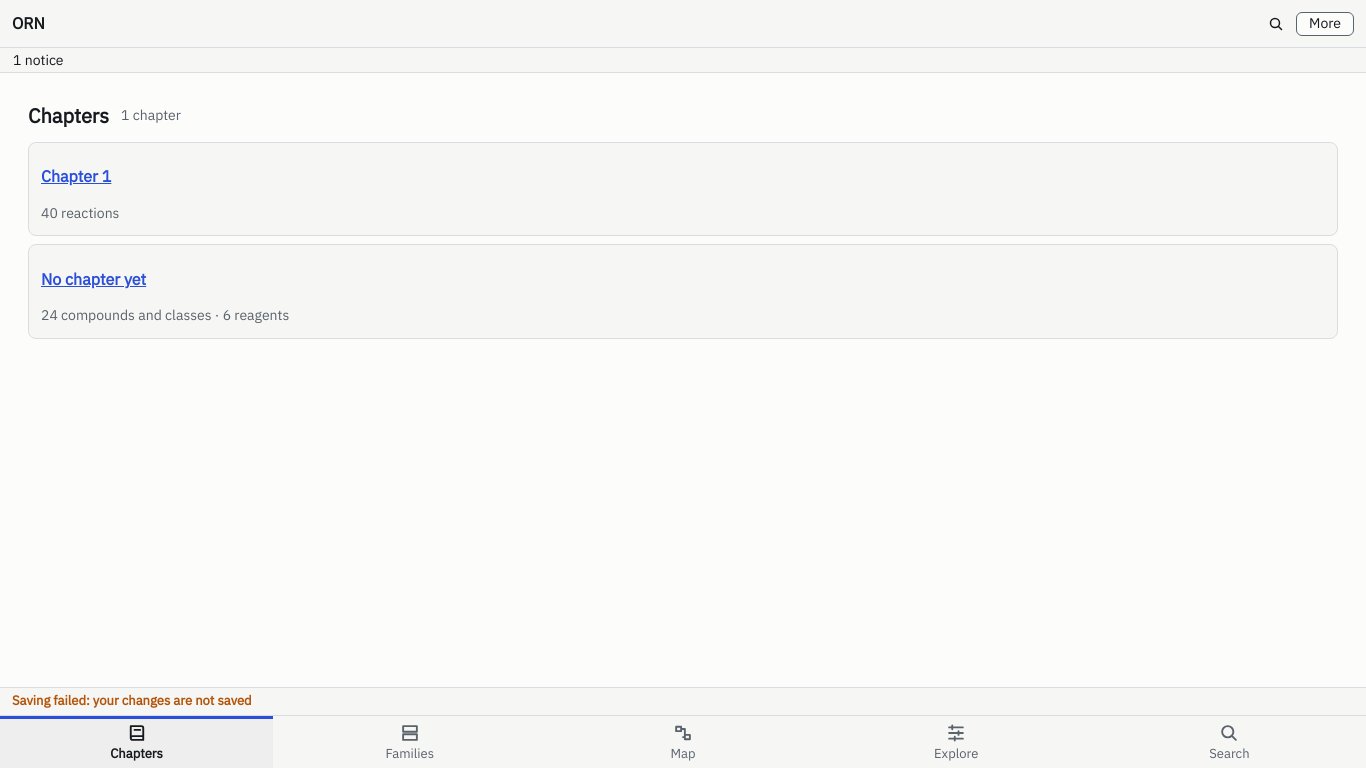
Test case: the phone alert line and the folded notices › shows ONE alert line when saving failed, and a tap opens Status
Click the button "Saving failed: your changes are not saved" at (132, 701), box [0, 687, 1365, 715]
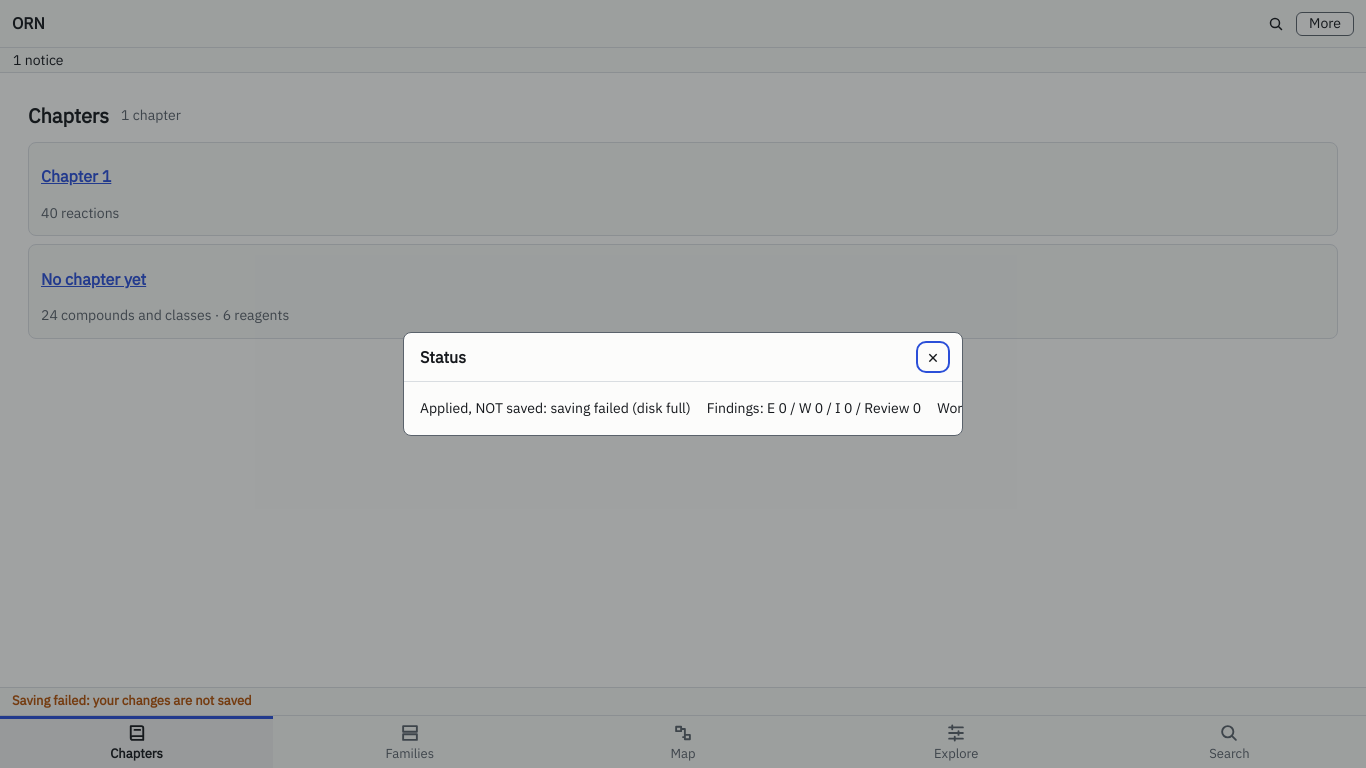
Result: the list item "Applied, NOT saved: saving failed (disk full)" is shown at [420, 398, 691, 419]
